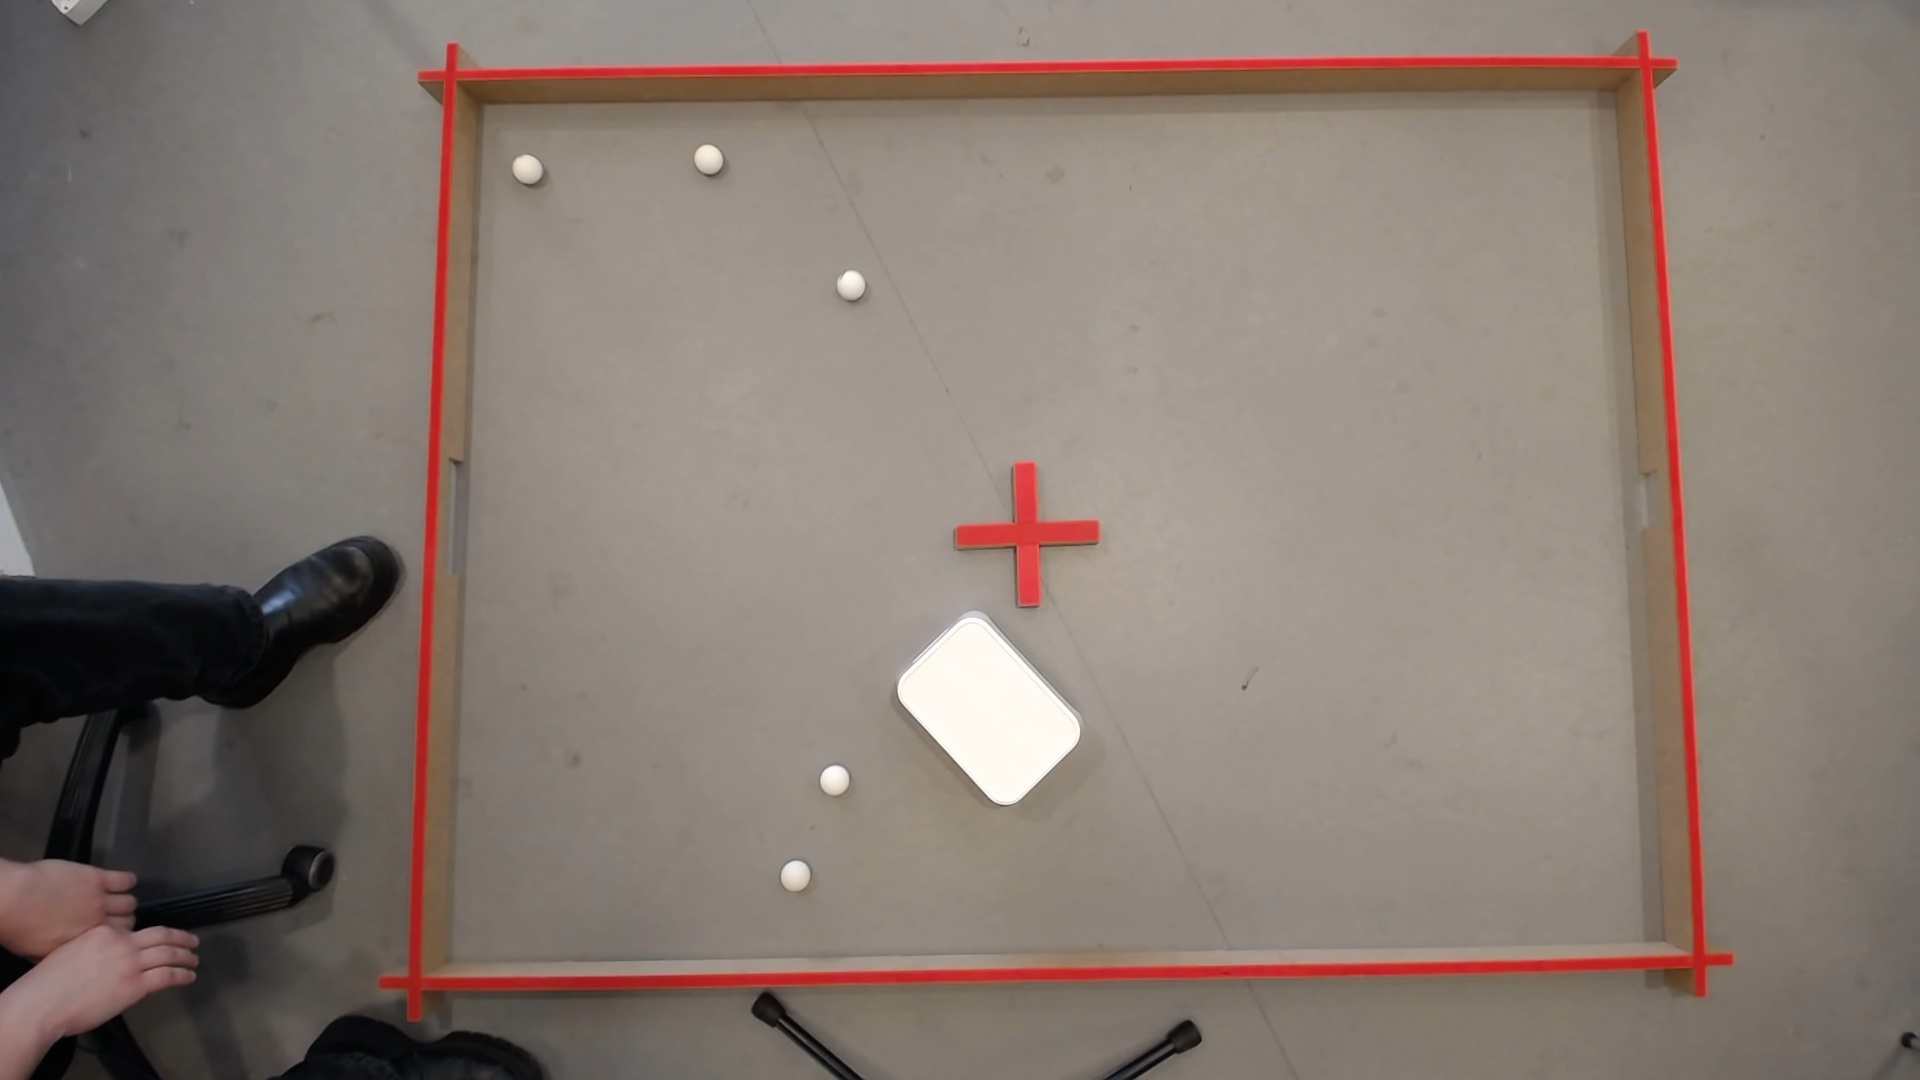balls: (885, 605, 1092, 814), (816, 760, 851, 794), (833, 265, 866, 299), (691, 140, 724, 171), (779, 855, 808, 885)
car: (514, 156, 538, 174)
